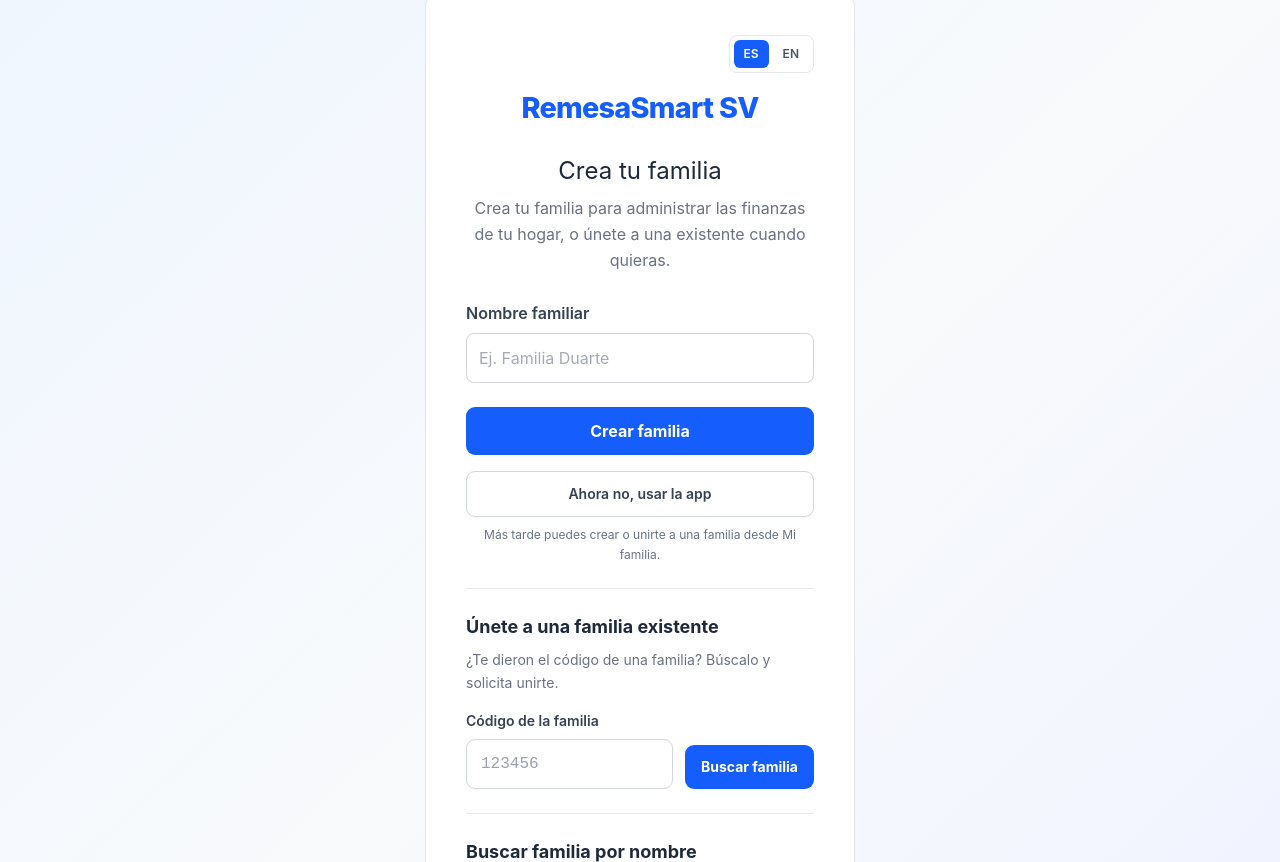
Test case: HogarPendiente › busca una familia por código y envía la solicitud de unión
The width and height of the screenshot is (1280, 862).
In the field labelled "Código de la familia": (569, 764) [466,739,673,789], type "RS-FAM-ABCDEF23456789XY"
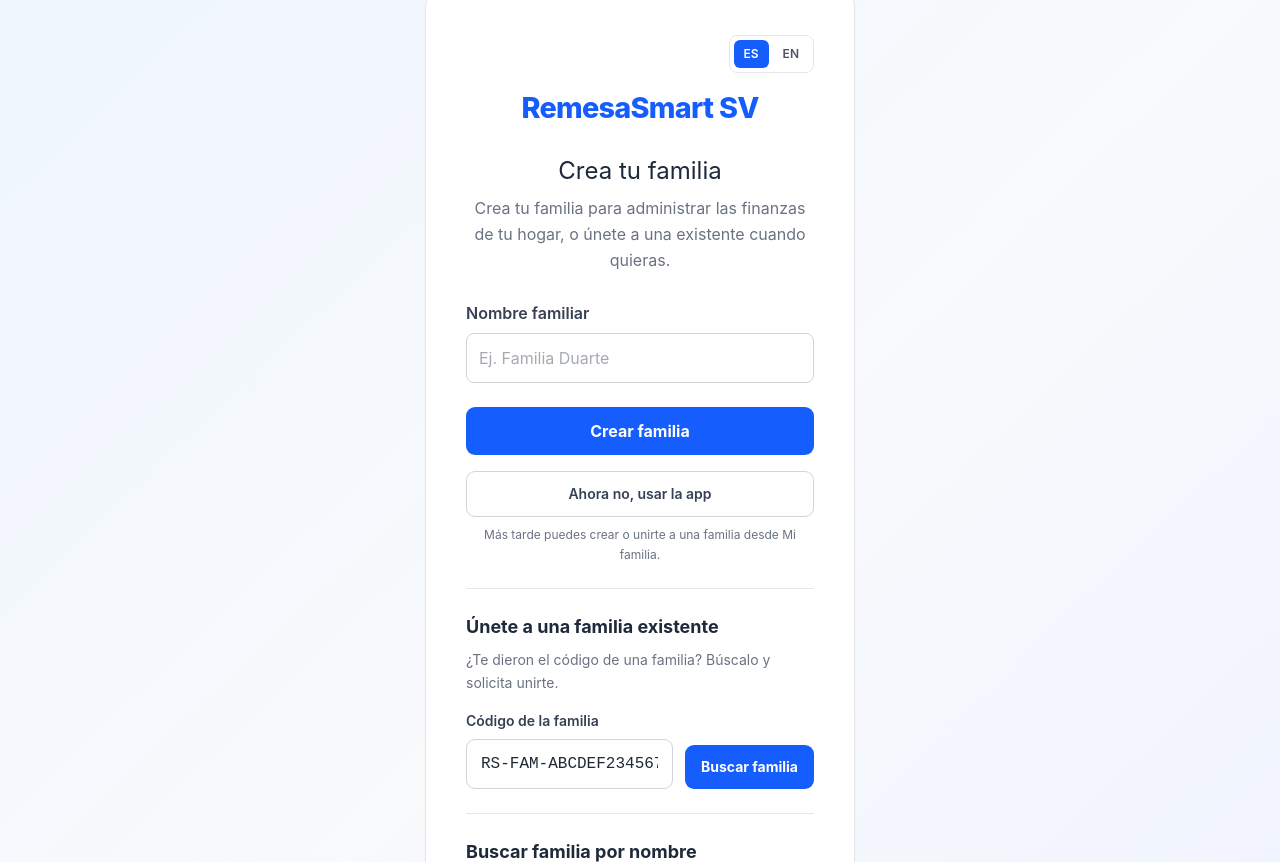
Click the button "Buscar familia": click(749, 767) [685,745,814,789]
(page scrolled)
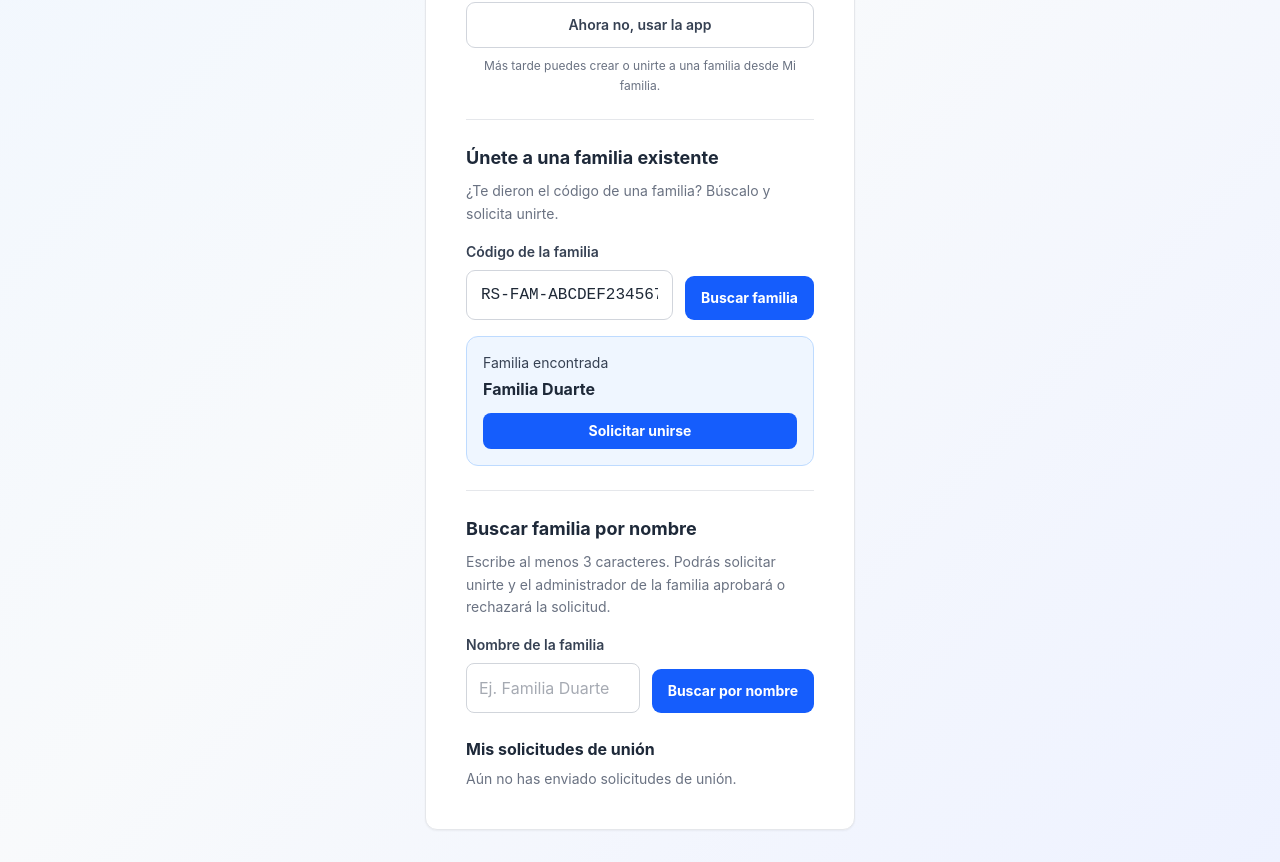
Check: the text "Familia Duarte" is shown, box [483,379,595,399]
Click the button "Solicitar unirse": click(640, 431) [483,413,797,449]
(page scrolled)
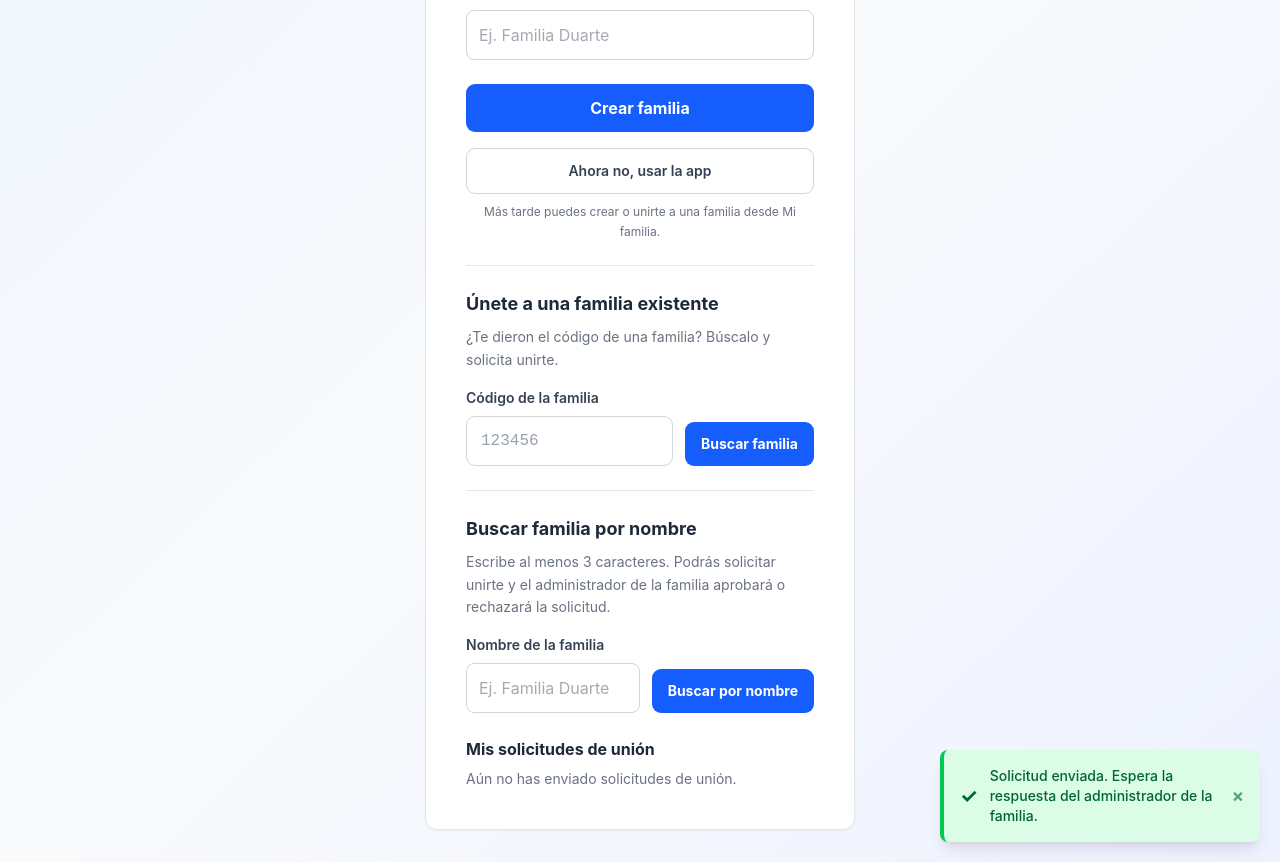
Check: the text "Solicitud enviada. Espera la respuesta del administrador de la familia." is shown, box [990,766,1220,826]
